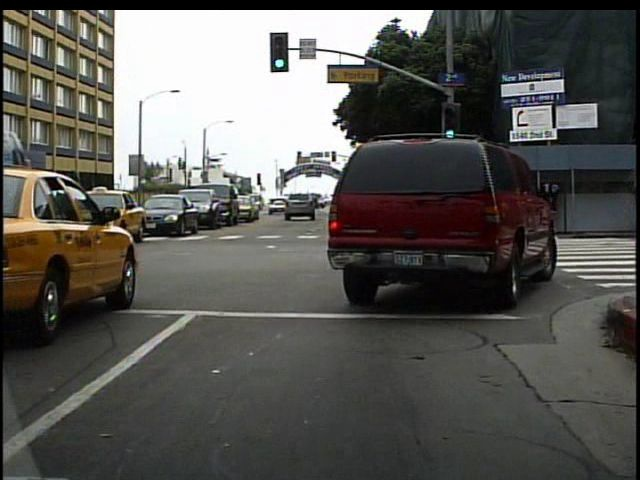person: (17, 191, 35, 229)
